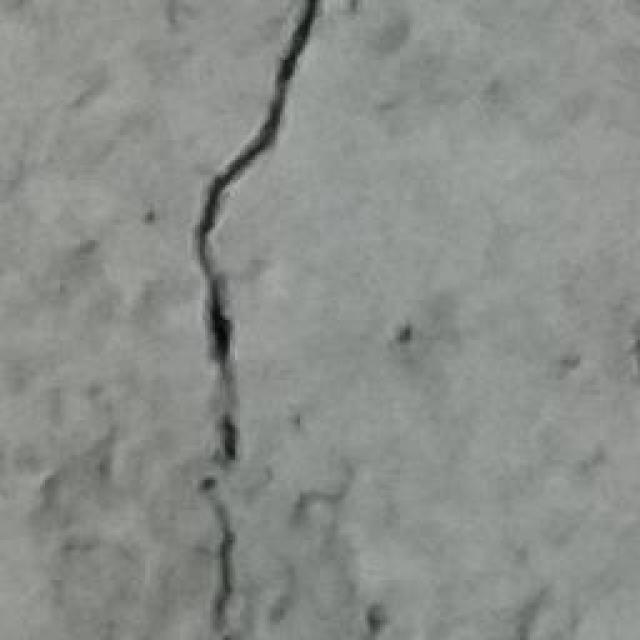Longitudinal: (171, 0, 328, 640)
